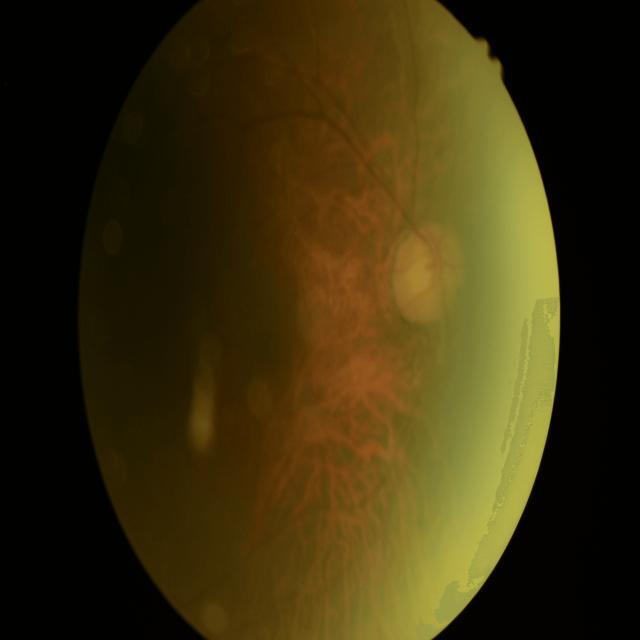cup: (408, 241, 451, 311)
disk: (392, 222, 468, 324)
